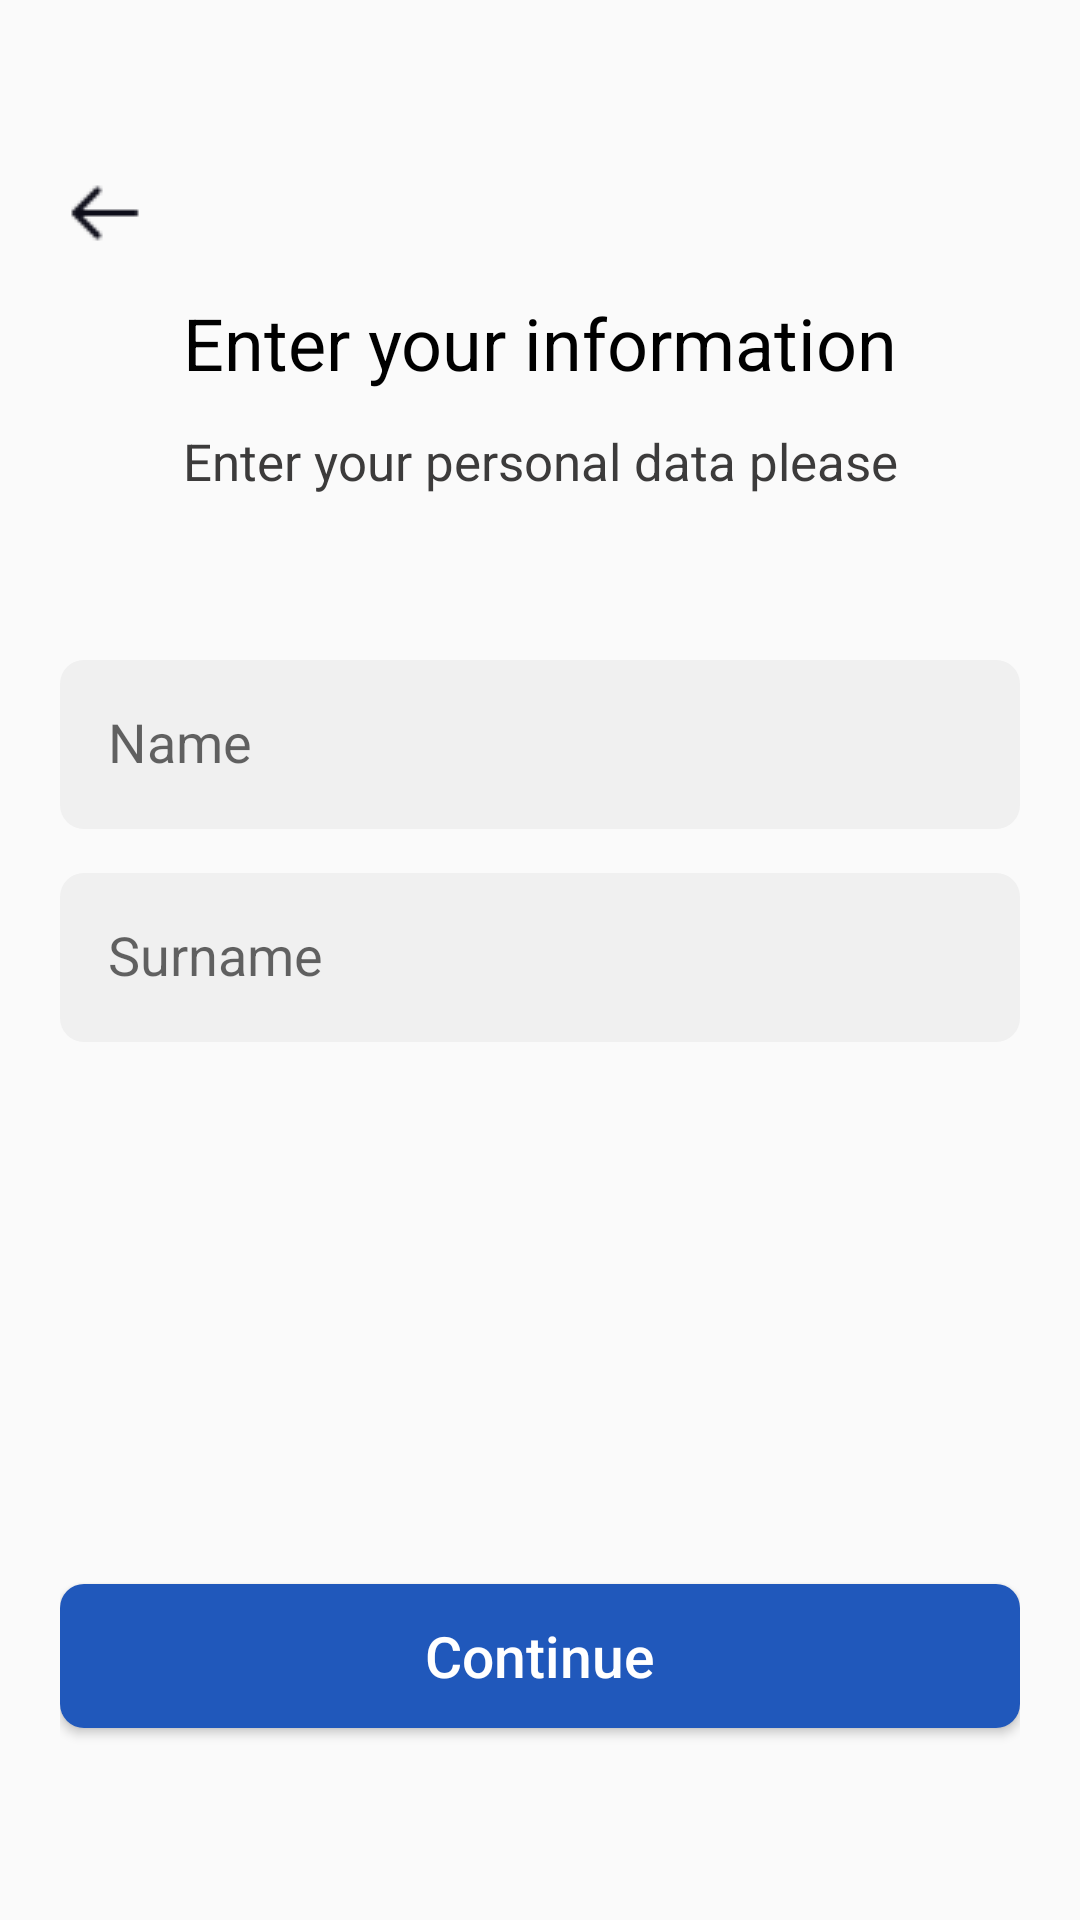

Icon bounding boxes for this 1080×1920 phone screenshot, format (x1, y1, x2, y2):
left: (71, 185, 139, 241)
